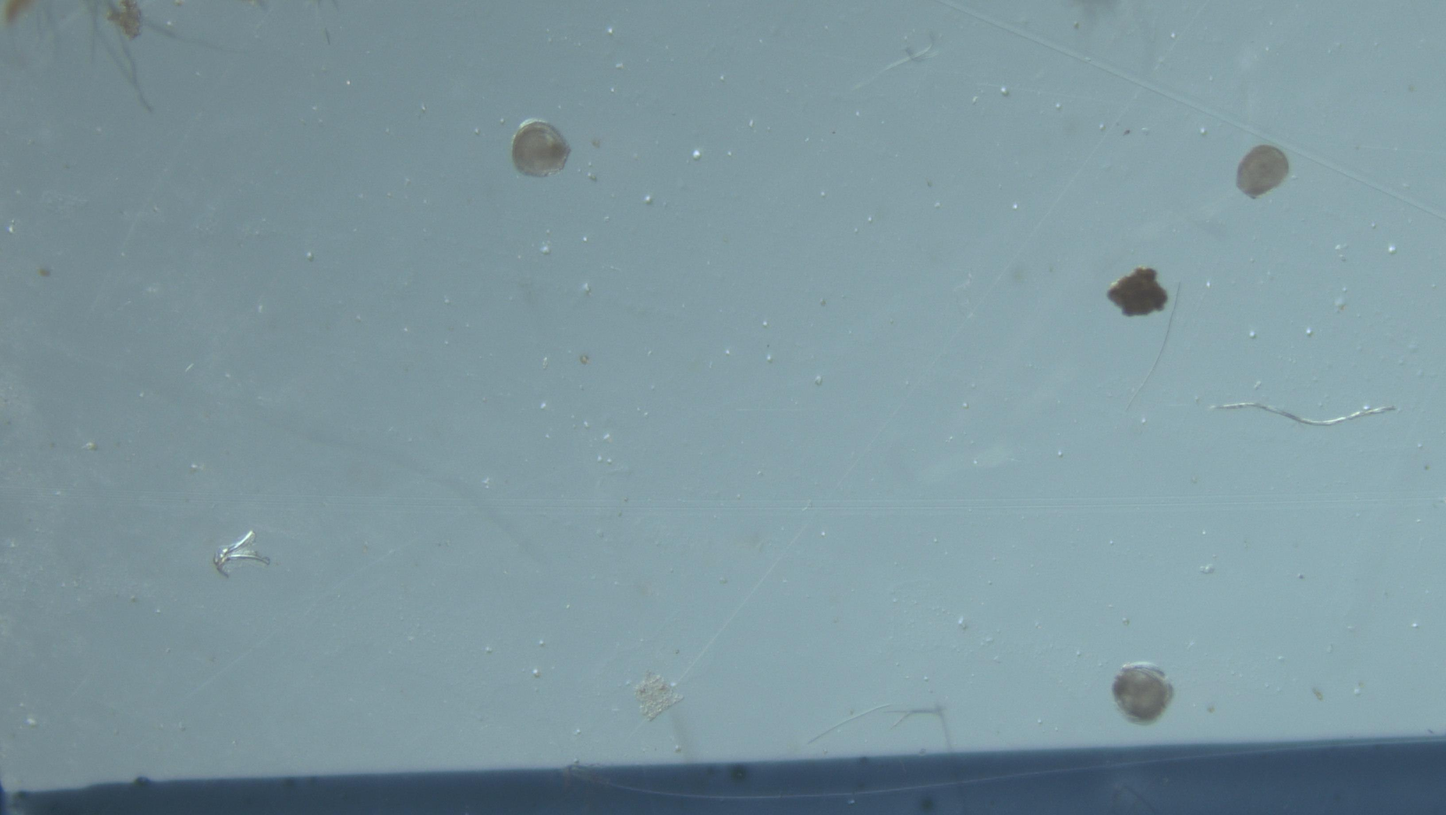live: (1112, 663, 1174, 725), (511, 119, 570, 178), (1237, 144, 1290, 198)
